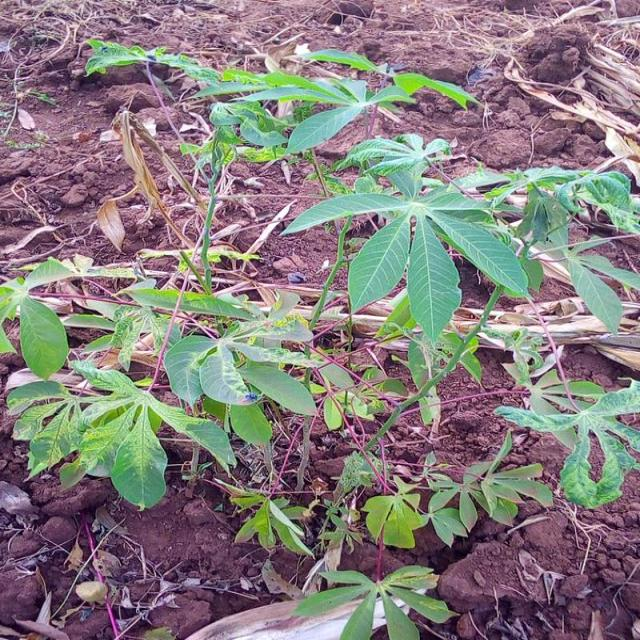cassava leaf: (109, 402, 167, 510)
